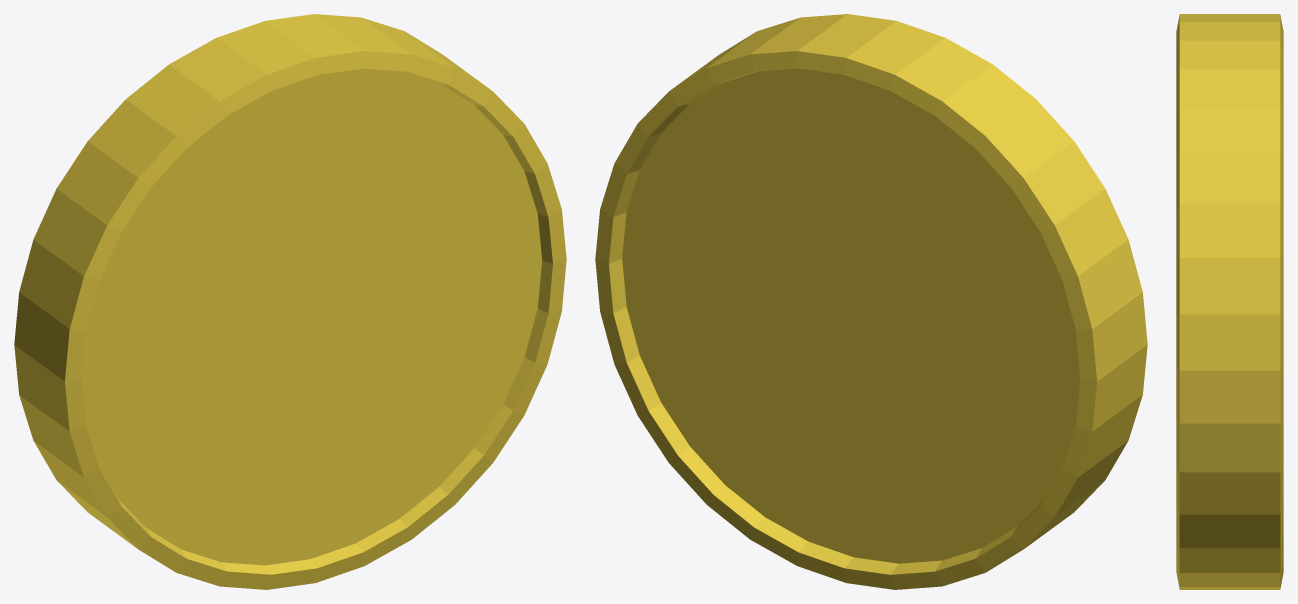
Rendered from coin.fbx.
3 renders of one model, left to right at view 1: azimuth 30°, elevation 25°; view 2: azimuth 150°, elevation 25°; view 3: azimuth 270°, elevation 25°, orthographic.
Visible parts, largest first — view 1: Cylinder; view 2: Cylinder; view 3: Cylinder.
Boxes of the visible parts, bbox=[...] form: Cylinder: bbox=[14, 14, 566, 589]; Cylinder: bbox=[595, 14, 1147, 589]; Cylinder: bbox=[1176, 14, 1283, 589].
Size of the model in its own units: 200 by 200 by 37.17.
